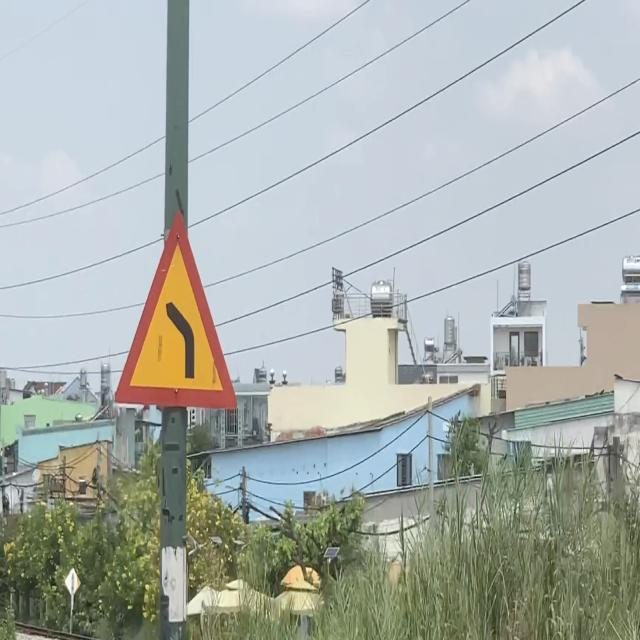Nguy hiem: (109, 200, 246, 434)
